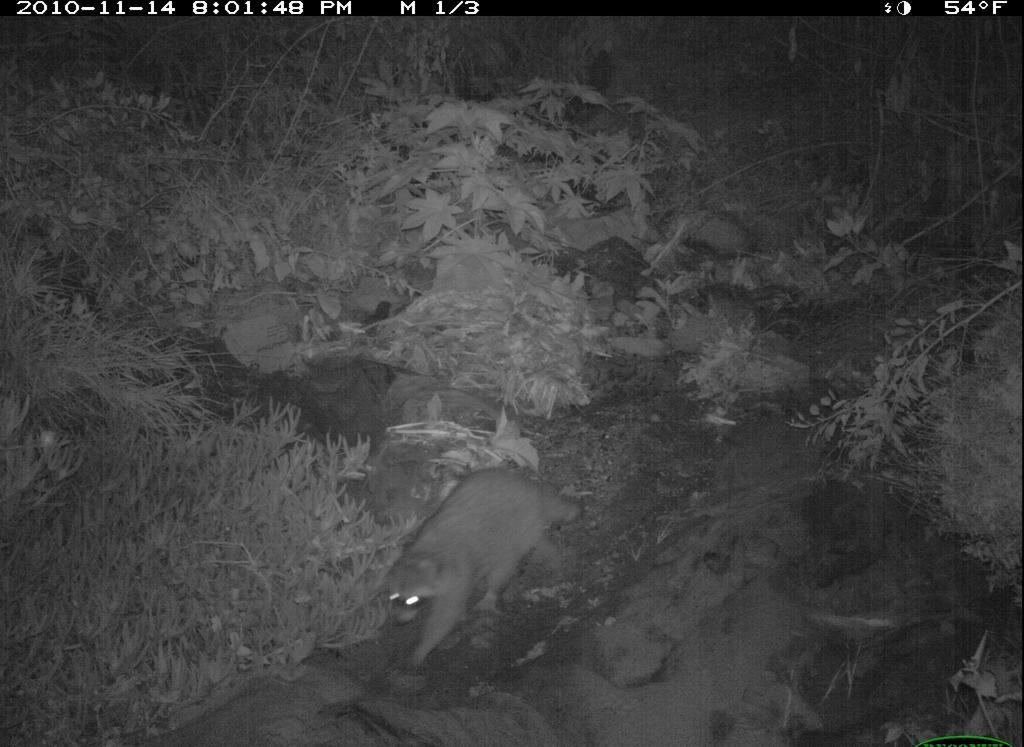raccoon: (378, 456, 589, 673)
